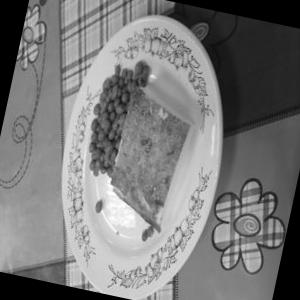casserole: (60, 44, 221, 246)
